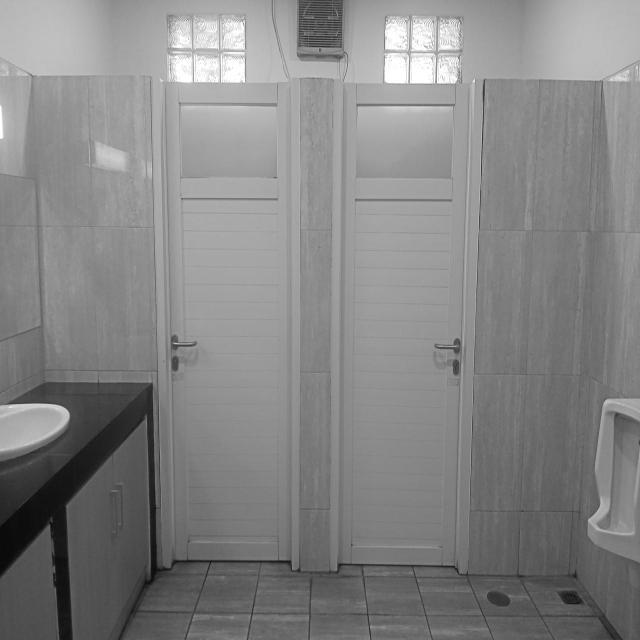door: (334, 80, 484, 567), (162, 78, 300, 562)
